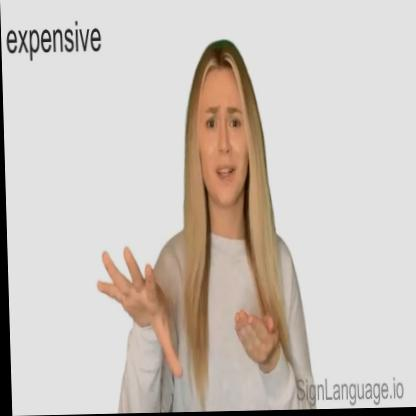Expensive: (88, 238, 283, 398)
